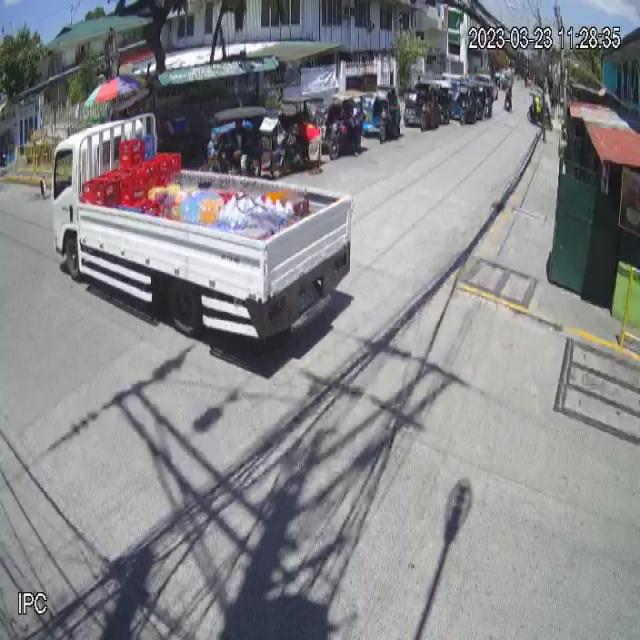Truck: (39, 111, 353, 347)
